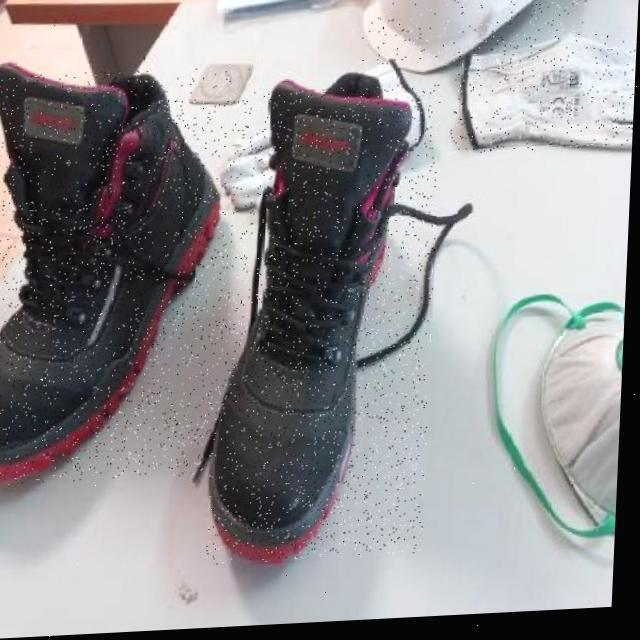Safety-Boot: (194, 60, 478, 570), (0, 51, 229, 486)
